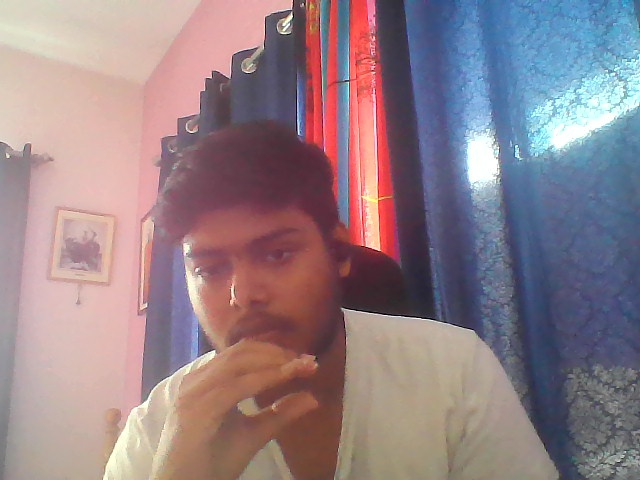No: (162, 338, 345, 476)
